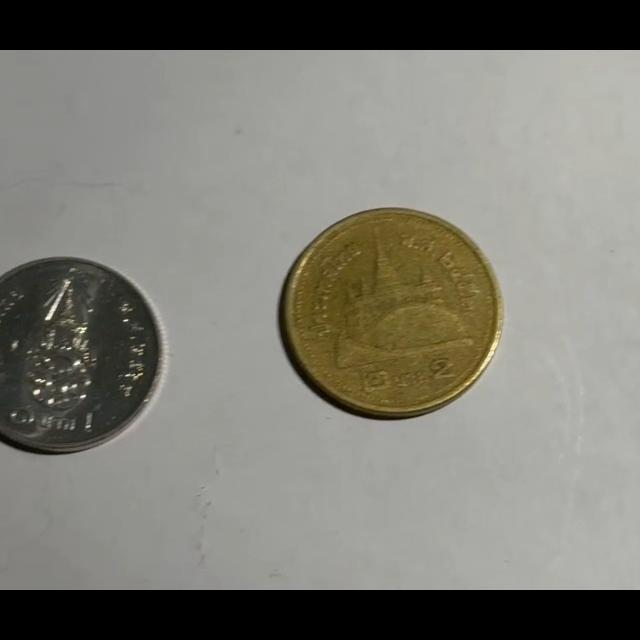1-baht: (0, 257, 164, 455)
2-baht: (280, 208, 502, 418)
